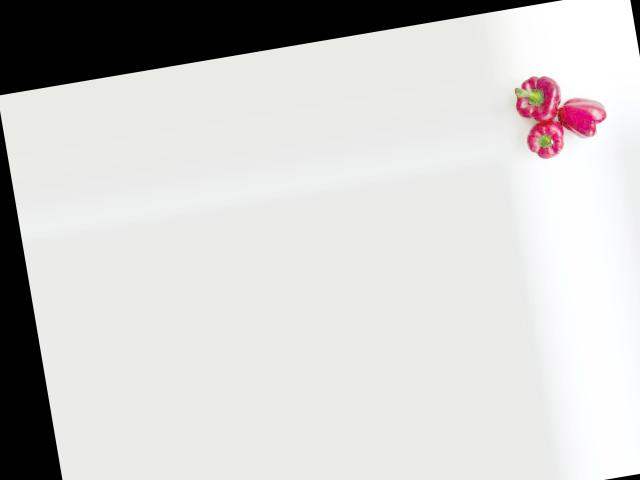bell_pepper: (553, 88, 617, 150)
